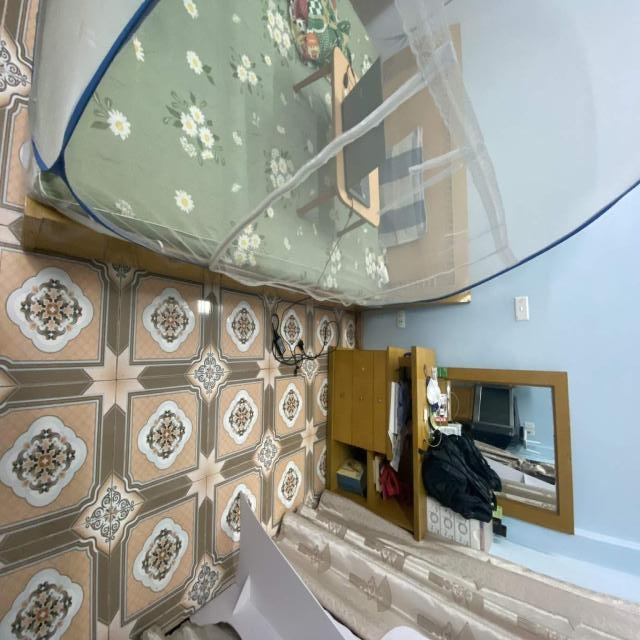outlet: (397, 311, 406, 328)
